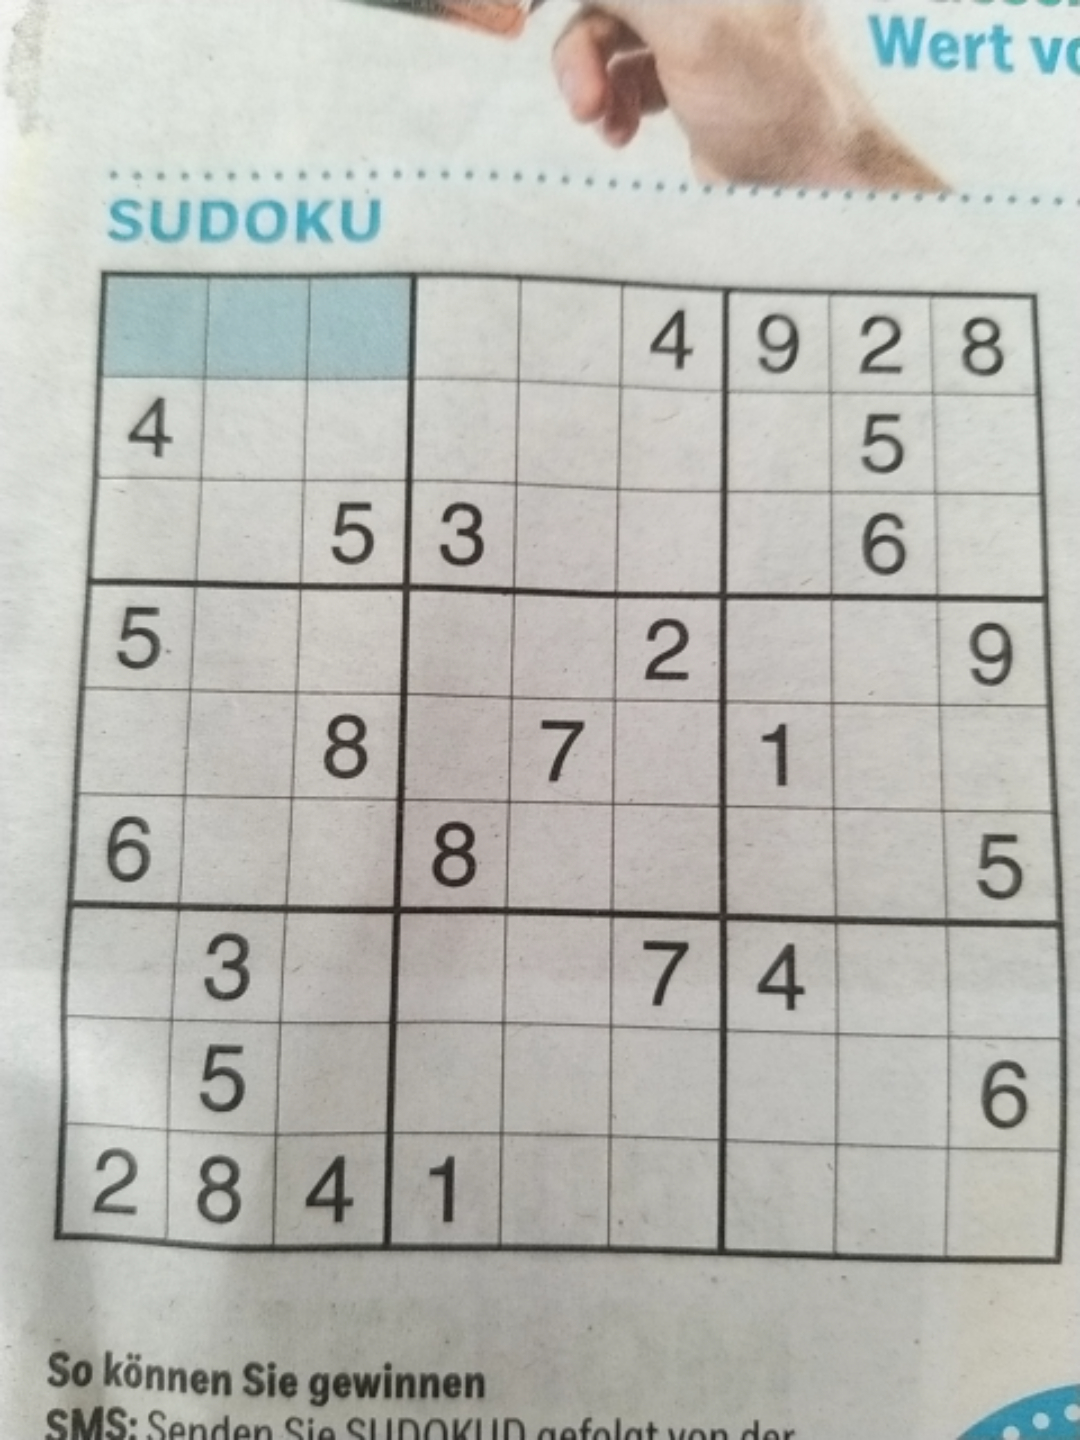sudoku: (51, 266, 1061, 1267)
